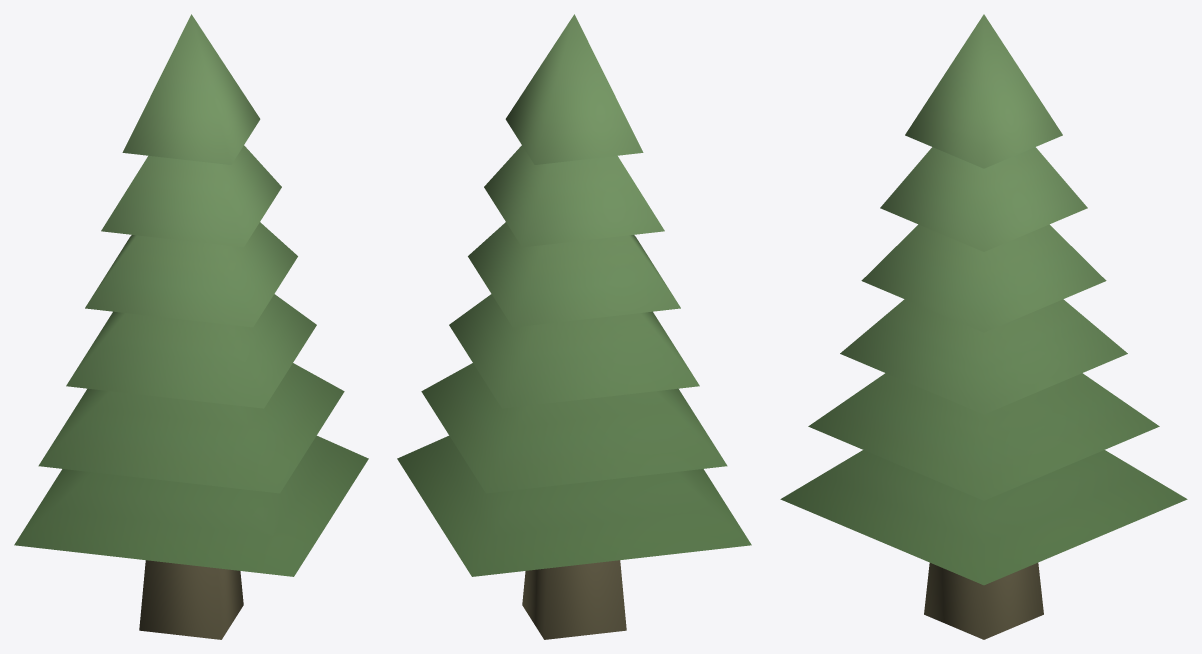
Rendered from pack03_foliage2_08.fbx.
The picture shows the model from 3 angles, left to right: view 1: azimuth 30°, elevation 25°; view 2: azimuth 150°, elevation 25°; view 3: azimuth 270°, elevation 25°; orthographic projection.
Parts seen in each view (by area): view 1: Tree.001; view 2: Tree.001; view 3: Tree.001.
Boxes of the visible parts, x1,y1,x2,y2 form: Tree.001: (14, 14, 368, 639); Tree.001: (397, 14, 751, 639); Tree.001: (780, 14, 1187, 639).
Bounding box in the file's own units: 323 × 526 × 323.
1 material, 1 textured.
